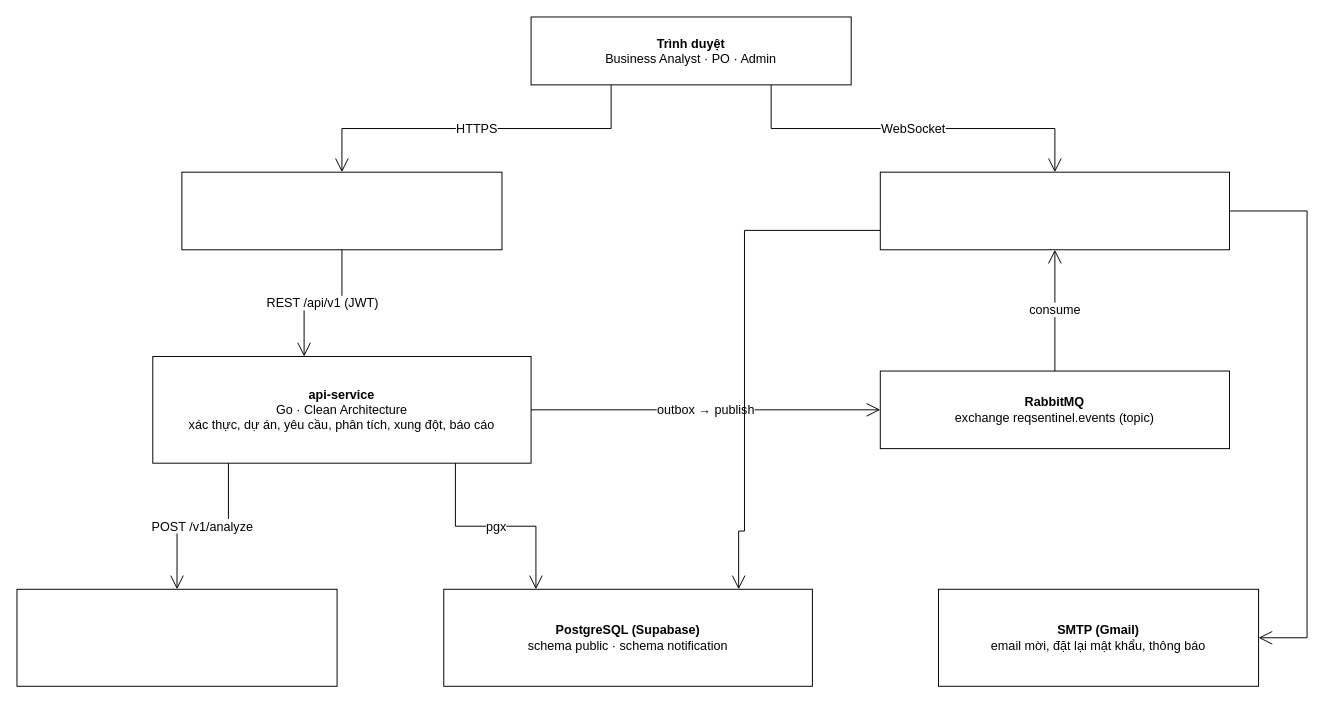
Image size: 1338x703. Some labels were removed from this diagram. The centre of each missing label's shape, as x and y in pixels:
"ml-service Python / FastAPI · accheck-ml DeBERTa · SBERT · Reasoner" belongs at point (176, 637).
"notification-service Node.js / TypeScript, Socket.IO" belongs at point (1054, 210).
"web-app Vue 3 + Vite, phục vụ bởi nginx" belongs at point (341, 210).
